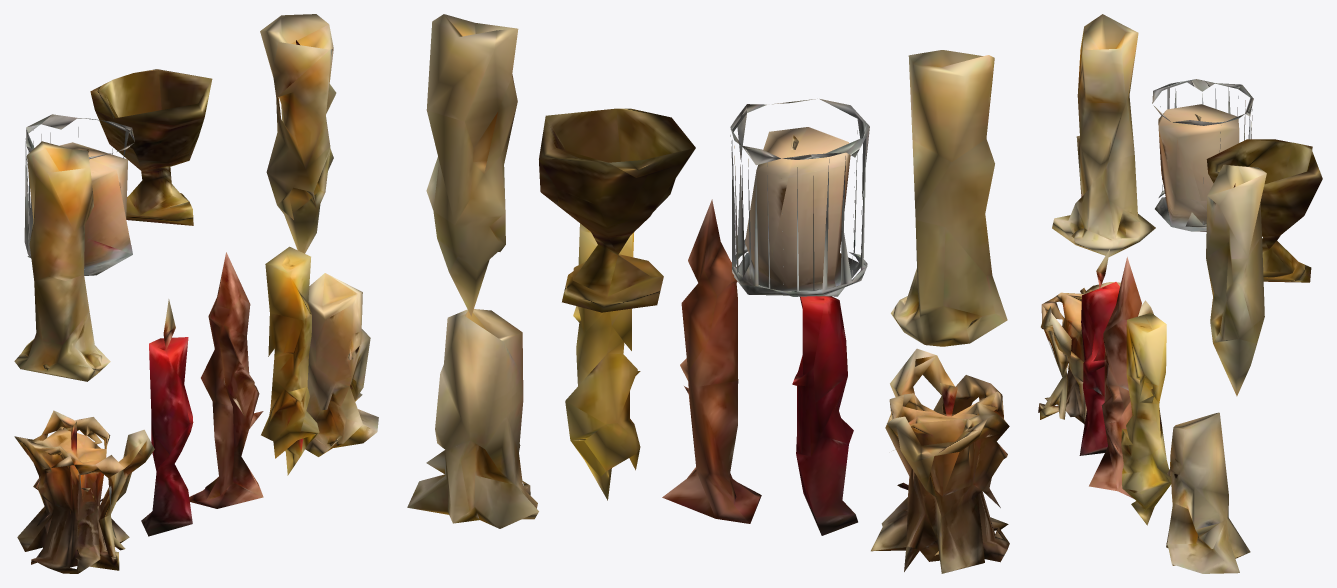
The model's file is candle_set.glb.
3 views of the same model, side by side, from view 1: azimuth 30°, elevation 25°; view 2: azimuth 150°, elevation 25°; view 3: azimuth 270°, elevation 25° (orthographic). The views are drawn at different scales.
Parts seen in each view (by area): view 1: tripo_node_9d9d680d-a09b-4d11-9c72-7b02ebe91c3d; view 2: tripo_node_9d9d680d-a09b-4d11-9c72-7b02ebe91c3d; view 3: tripo_node_9d9d680d-a09b-4d11-9c72-7b02ebe91c3d.
Part boxes in pixels (<box>): tripo_node_9d9d680d-a09b-4d11-9c72-7b02ebe91c3d: <box>14,14,378,573</box>; tripo_node_9d9d680d-a09b-4d11-9c72-7b02ebe91c3d: <box>407,14,1009,573</box>; tripo_node_9d9d680d-a09b-4d11-9c72-7b02ebe91c3d: <box>1038,14,1322,573</box>.
Bounding box in the file's own units: 0.9737 × 0.9208 × 0.615.
Materials: 1 (1 with a texture image).
